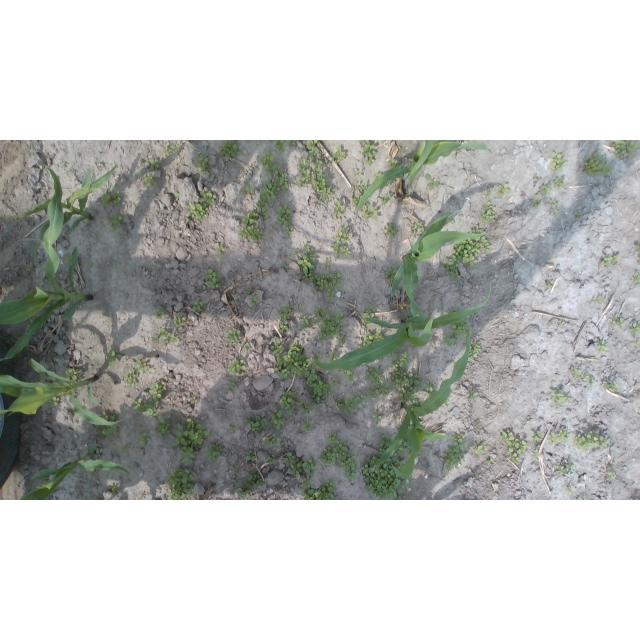Maize: (0, 164, 92, 364), (312, 284, 492, 370), (373, 328, 470, 478), (17, 157, 117, 268), (391, 210, 485, 319), (355, 141, 488, 212), (0, 358, 124, 426), (22, 443, 128, 500), (91, 493, 103, 500)
Weeds: (359, 436, 411, 500), (296, 155, 333, 202), (452, 229, 491, 268), (391, 368, 424, 413), (271, 337, 305, 379), (305, 352, 332, 404), (335, 440, 359, 483), (314, 307, 344, 341), (175, 419, 210, 448), (500, 431, 528, 466), (168, 466, 195, 500), (444, 431, 467, 469), (297, 243, 319, 281), (332, 221, 353, 260), (365, 368, 391, 399), (238, 211, 264, 241), (301, 478, 336, 500), (315, 273, 342, 300), (576, 431, 608, 453), (444, 320, 469, 347), (131, 397, 161, 419), (276, 203, 296, 233), (585, 155, 611, 177), (613, 140, 640, 160), (152, 329, 179, 348), (260, 179, 281, 202), (283, 452, 303, 476), (279, 391, 297, 417), (279, 306, 295, 335), (273, 164, 290, 190), (548, 151, 568, 173), (248, 416, 270, 436), (345, 393, 366, 413), (362, 329, 384, 348), (205, 267, 224, 289), (243, 473, 266, 491), (148, 381, 166, 404), (360, 140, 376, 165), (187, 202, 209, 220), (100, 188, 122, 206), (271, 409, 288, 432), (220, 141, 240, 160), (260, 151, 276, 174), (480, 202, 496, 225), (204, 444, 225, 461), (444, 259, 460, 281), (360, 304, 376, 326), (549, 391, 572, 406), (105, 348, 122, 368), (468, 342, 483, 364), (227, 359, 246, 376), (108, 212, 125, 230), (320, 447, 336, 466), (136, 356, 152, 373), (551, 429, 569, 444), (154, 420, 172, 435), (136, 427, 151, 445), (199, 191, 217, 206), (195, 157, 209, 176), (95, 424, 117, 436), (332, 200, 345, 220), (362, 204, 378, 220), (426, 174, 441, 191), (392, 352, 409, 367), (257, 200, 270, 219), (333, 145, 346, 164), (471, 441, 487, 456), (339, 368, 355, 383), (162, 144, 182, 156), (297, 401, 314, 415), (181, 447, 195, 464), (303, 457, 316, 475), (600, 254, 619, 266), (64, 368, 80, 382), (423, 380, 435, 398), (263, 434, 281, 446), (123, 371, 137, 386), (173, 313, 187, 328), (385, 267, 398, 283), (555, 464, 573, 475), (299, 315, 313, 329), (308, 141, 321, 156), (383, 224, 399, 236), (273, 140, 287, 153), (410, 222, 424, 235), (611, 317, 625, 330), (227, 329, 240, 343), (149, 158, 164, 170), (498, 182, 510, 196), (540, 184, 553, 196), (327, 432, 339, 445), (372, 410, 382, 425), (553, 177, 565, 189), (596, 343, 608, 355), (192, 300, 204, 312), (101, 412, 117, 421), (107, 484, 119, 496), (570, 367, 583, 378), (236, 487, 248, 498), (243, 184, 255, 195), (143, 174, 155, 185), (49, 396, 60, 408), (303, 420, 313, 433), (355, 182, 370, 190), (604, 383, 619, 391), (532, 196, 541, 209), (533, 431, 542, 444), (247, 451, 258, 461), (586, 375, 596, 386), (607, 471, 617, 482), (155, 309, 165, 320), (25, 262, 35, 273), (631, 324, 640, 336), (470, 391, 479, 403), (336, 398, 345, 410), (227, 380, 237, 390), (268, 455, 277, 466), (389, 159, 398, 169), (383, 196, 393, 205), (404, 307, 413, 317), (249, 297, 259, 306), (217, 245, 226, 255), (328, 353, 339, 361), (352, 196, 361, 205), (331, 378, 340, 387), (633, 273, 640, 284), (596, 296, 605, 304), (122, 445, 130, 454), (65, 256, 72, 266), (566, 486, 574, 494), (487, 458, 494, 467), (443, 397, 450, 406), (230, 424, 237, 433), (245, 343, 252, 351), (376, 172, 385, 178), (288, 141, 298, 146), (554, 209, 561, 216), (546, 281, 553, 288), (190, 397, 197, 404), (454, 150, 461, 157), (324, 259, 330, 267), (575, 212, 581, 220), (534, 449, 539, 458), (487, 188, 493, 195), (551, 200, 558, 206), (447, 213, 453, 220), (339, 339, 345, 346), (291, 252, 297, 258), (231, 465, 237, 471), (559, 322, 565, 328), (89, 262, 94, 269), (476, 423, 481, 429), (450, 220, 455, 225), (612, 463, 616, 469), (247, 289, 251, 295), (393, 414, 397, 420), (533, 174, 537, 179), (419, 420, 423, 425), (176, 192, 180, 197), (576, 497, 582, 500)
